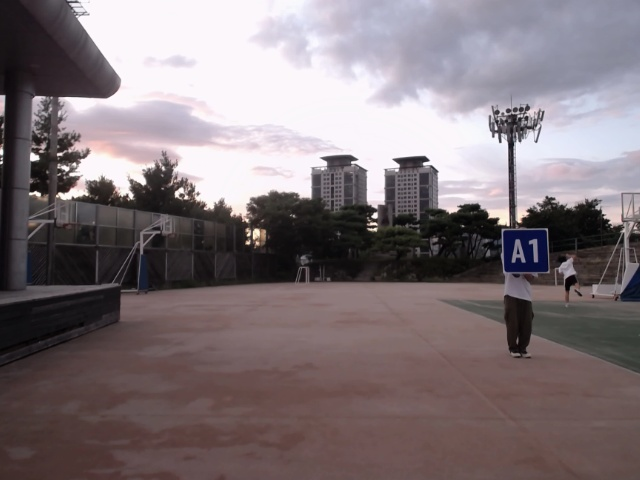delivery_a1: (502, 229, 549, 273)
